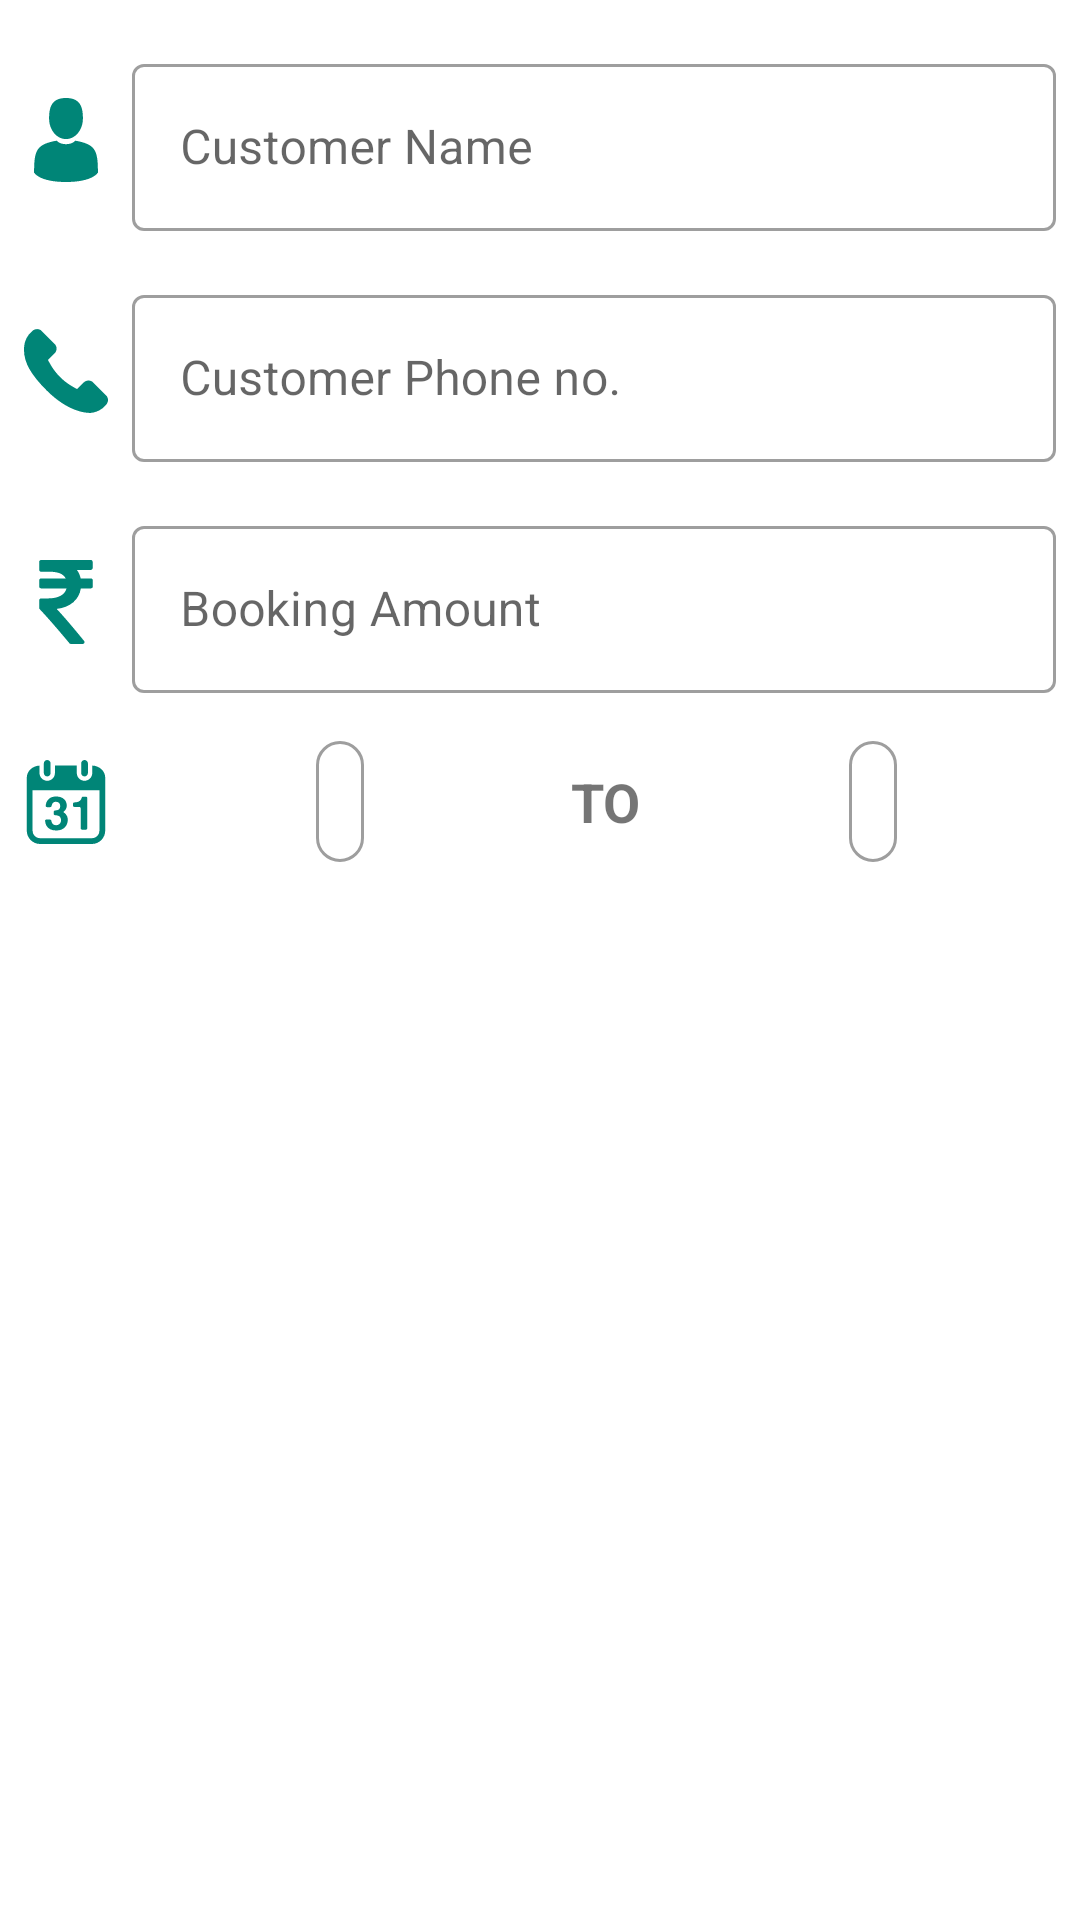

Named icons in this screenshot (1080w x 1920h) and their centers, (x,y):
calendar: (66,802)
person: (66,140)
rupee symbol: (66,602)
